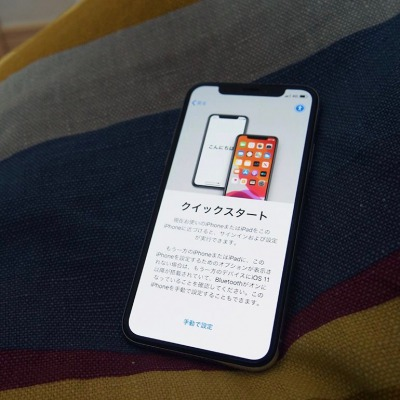iphone: (121, 78, 321, 372)
